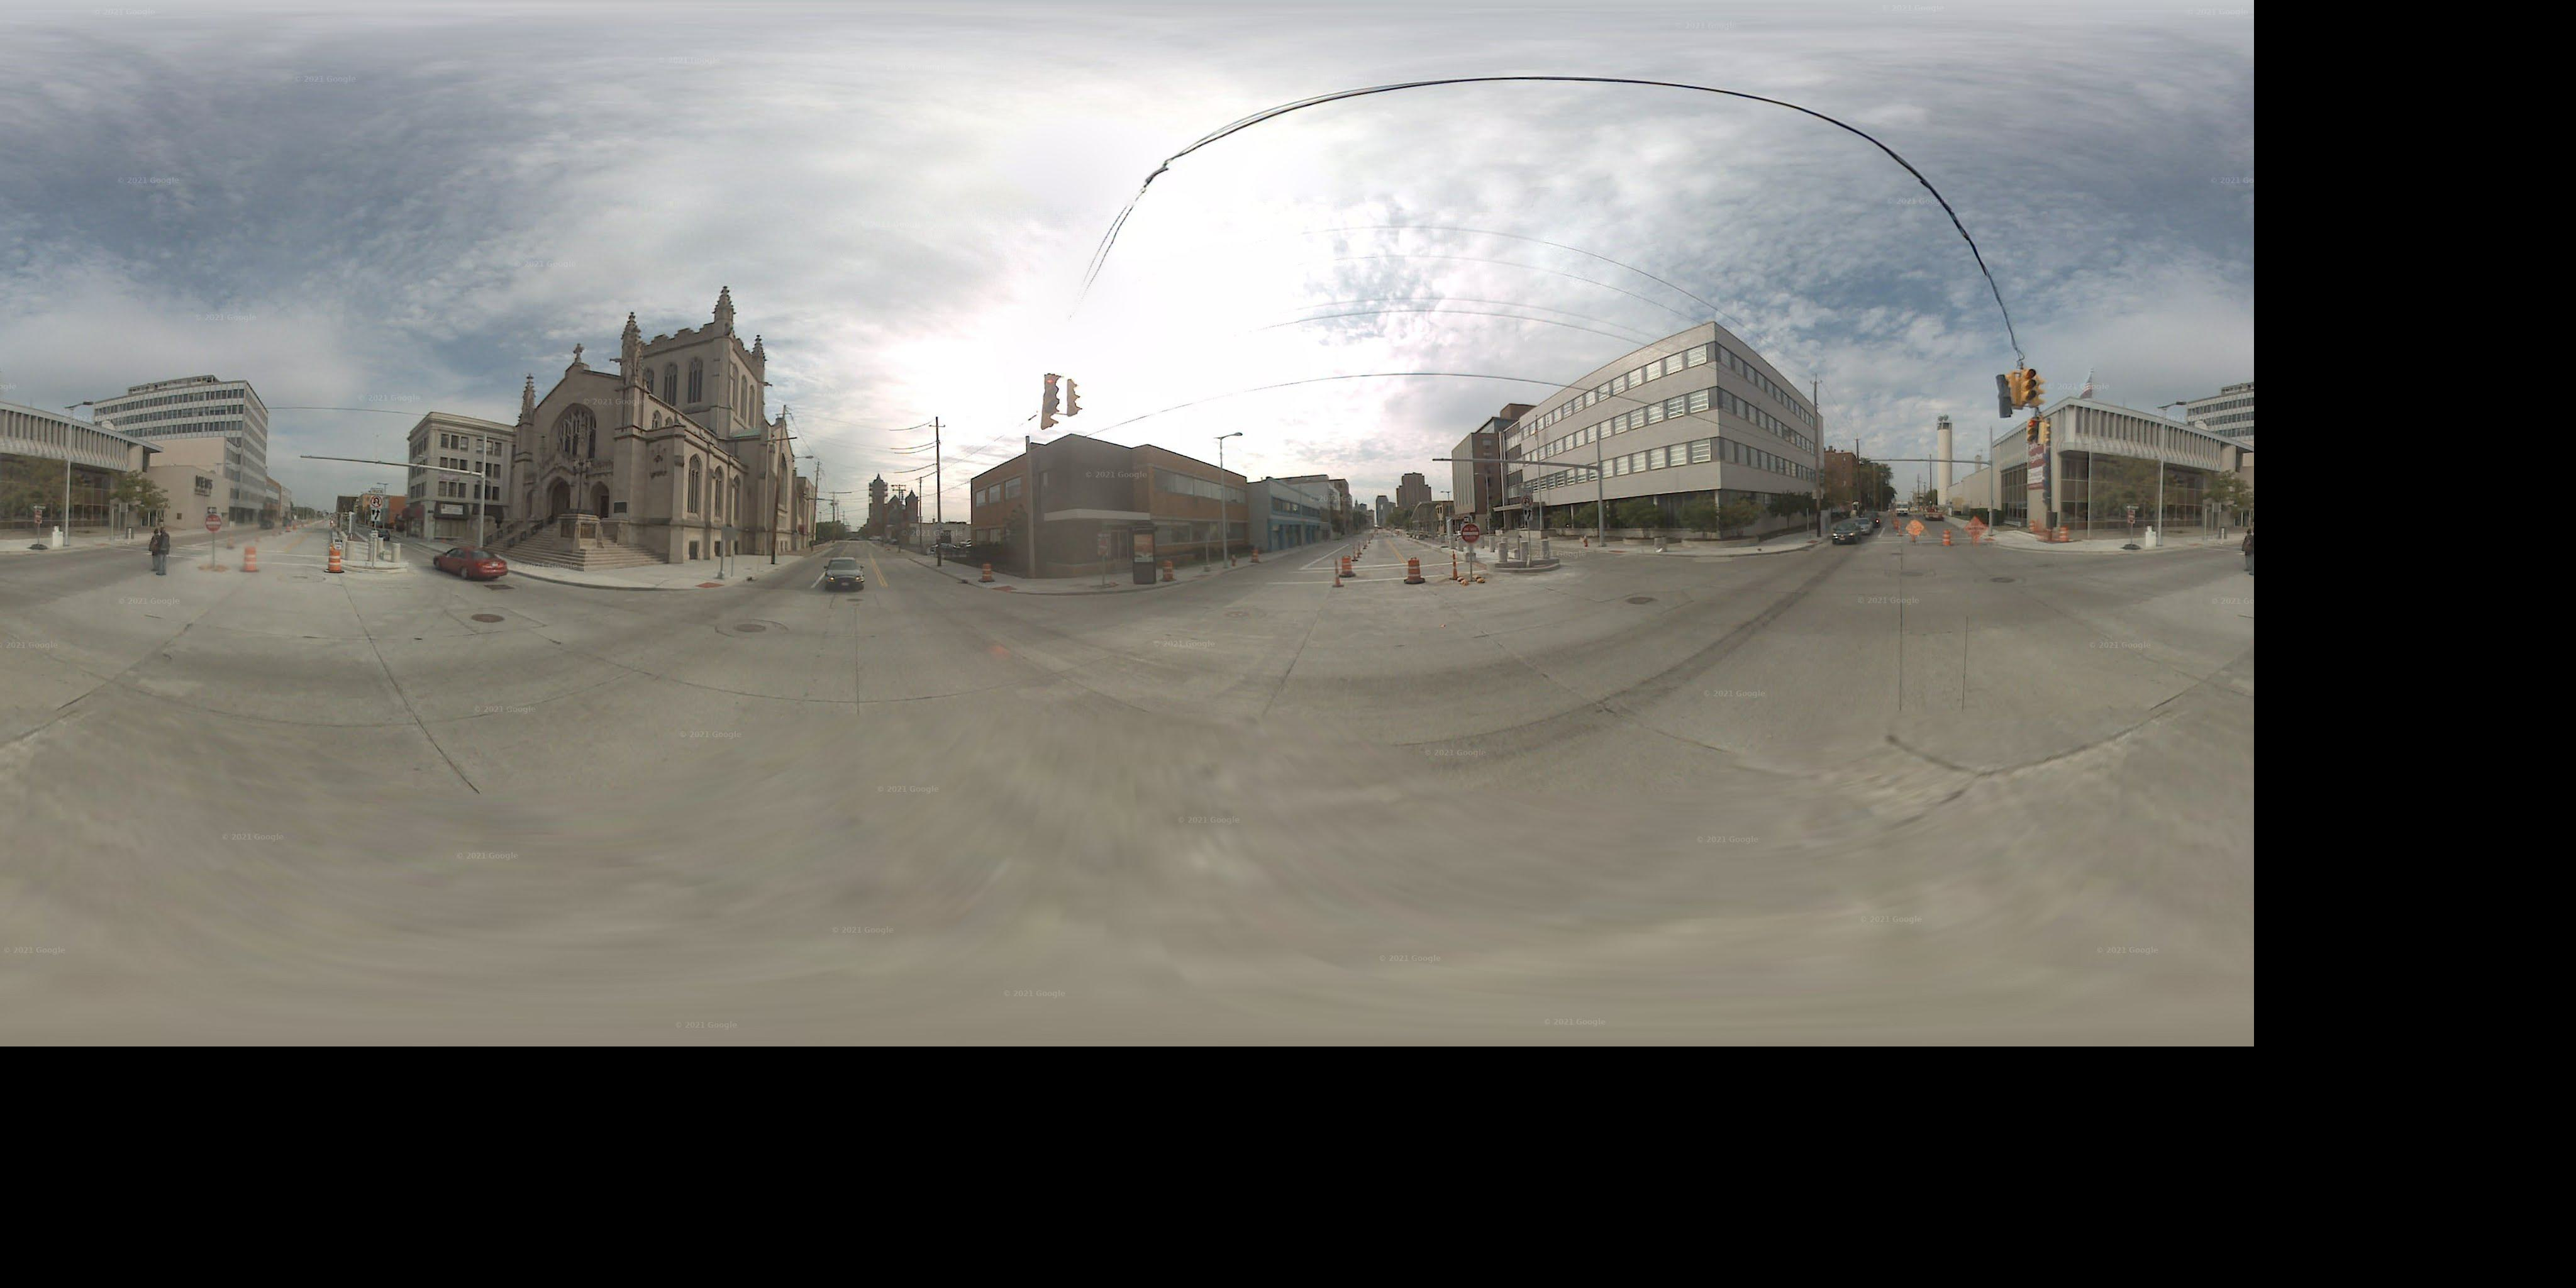Curb Ramp: (692, 575, 729, 595), (984, 578, 1020, 596), (1189, 567, 1219, 585), (1603, 542, 1635, 559), (90, 537, 115, 550), (2183, 537, 2206, 550), (1978, 534, 1999, 547)
Irregular Ramp: (1805, 536, 1824, 547)
